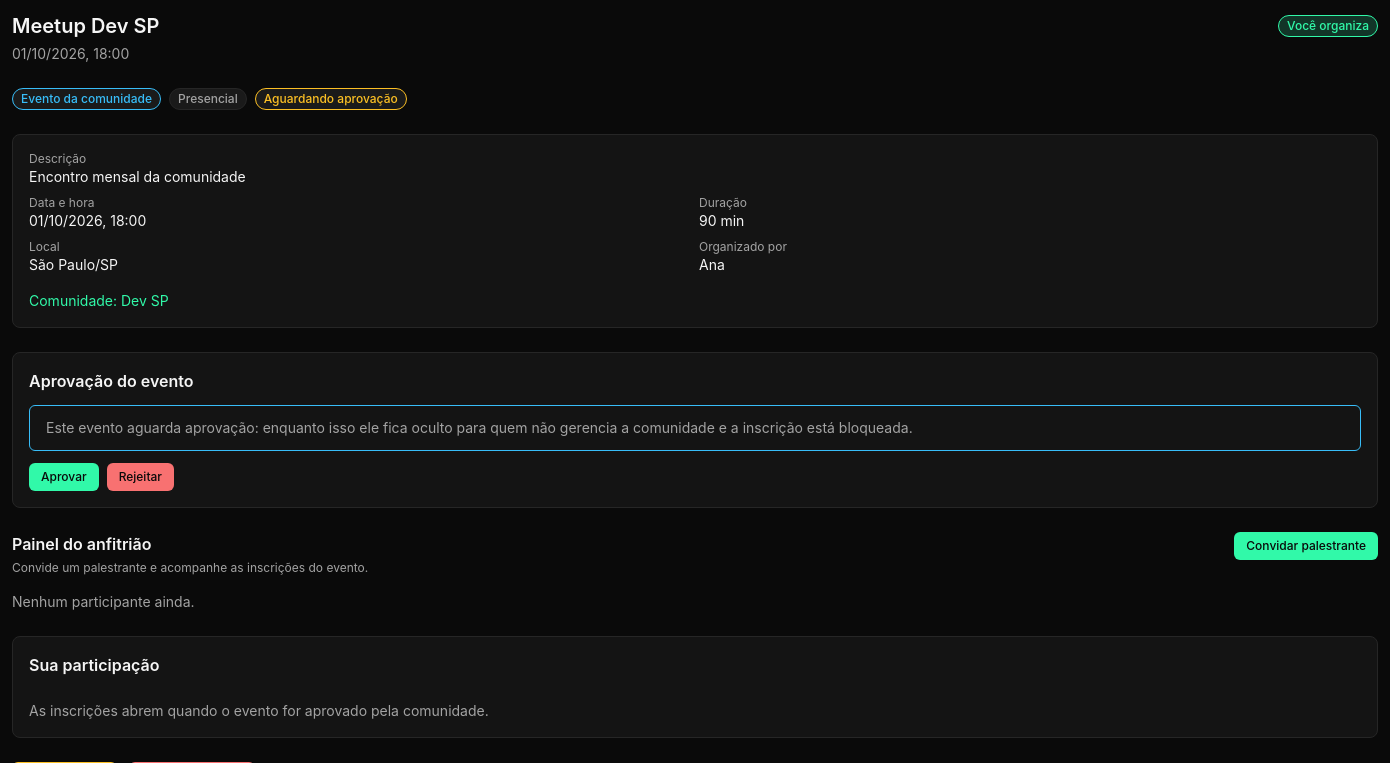
EventDetailPage › dono da comunidade vê o painel de aprovação e aprova atualizando o badge
Expected: the heading "Aprovação do evento" is shown, [29,371,194,391]
Expected: the text "Aguardando aprovação" is shown, [255,88,407,110]
Click the button "Aprovar" at (64, 477), box [29,463,99,491]
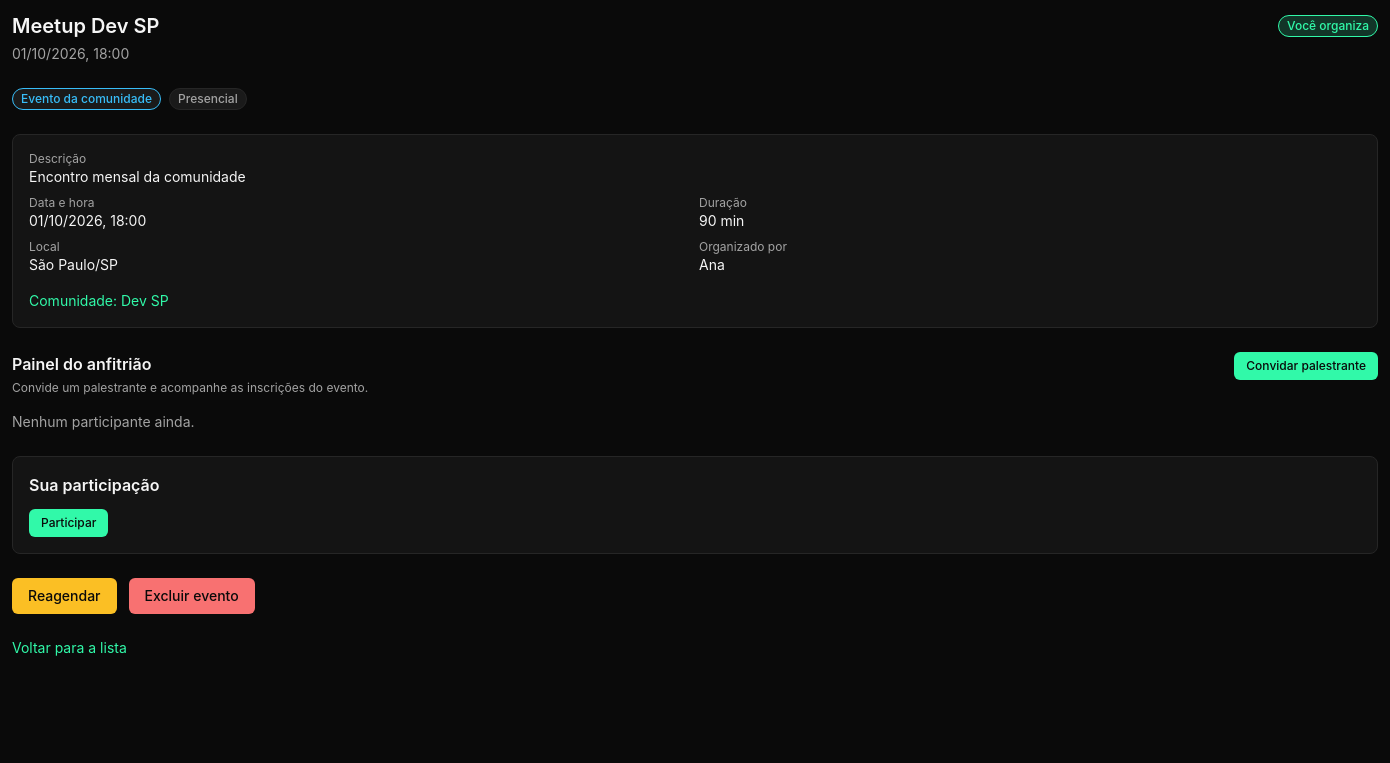
Expected: the heading "Painel do anfitrião" is shown, [12,354,152,374]
Expected: the heading "Aprovação do evento" is gone
Expected: the text "Aguardando aprovação" is gone
